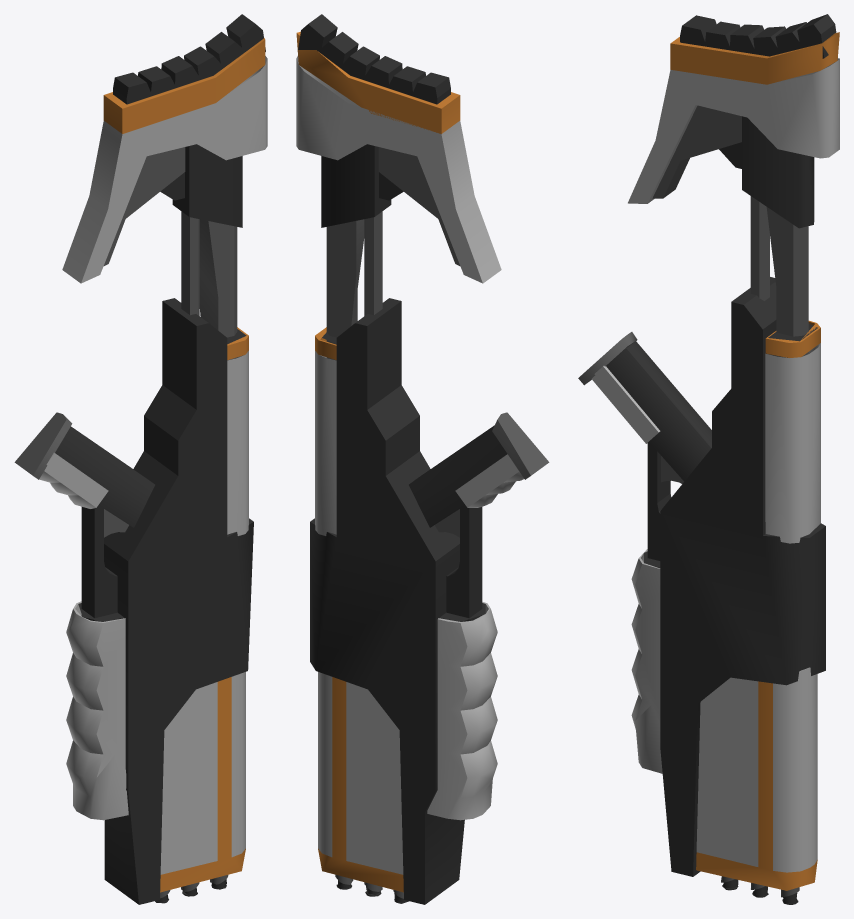
3 renders of one model, left to right at view 1: azimuth 30°, elevation 25°; view 2: azimuth 150°, elevation 25°; view 3: azimuth 330°, elevation 25°, orthographic. The views are drawn at different scales.
Visible parts, largest first — view 1: WeaponMesh_qg-ar-1_AR_1; view 2: WeaponMesh_qg-ar-1_AR_1; view 3: WeaponMesh_qg-ar-1_AR_1.
Part boxes in pixels (x1,y1,x2,y2): WeaponMesh_qg-ar-1_AR_1: [14, 14, 267, 904]; WeaponMesh_qg-ar-1_AR_1: [296, 14, 549, 904]; WeaponMesh_qg-ar-1_AR_1: [578, 14, 839, 904].
Bounding box in the file's own units: 0.3653 × 1.25 × 0.0903.
